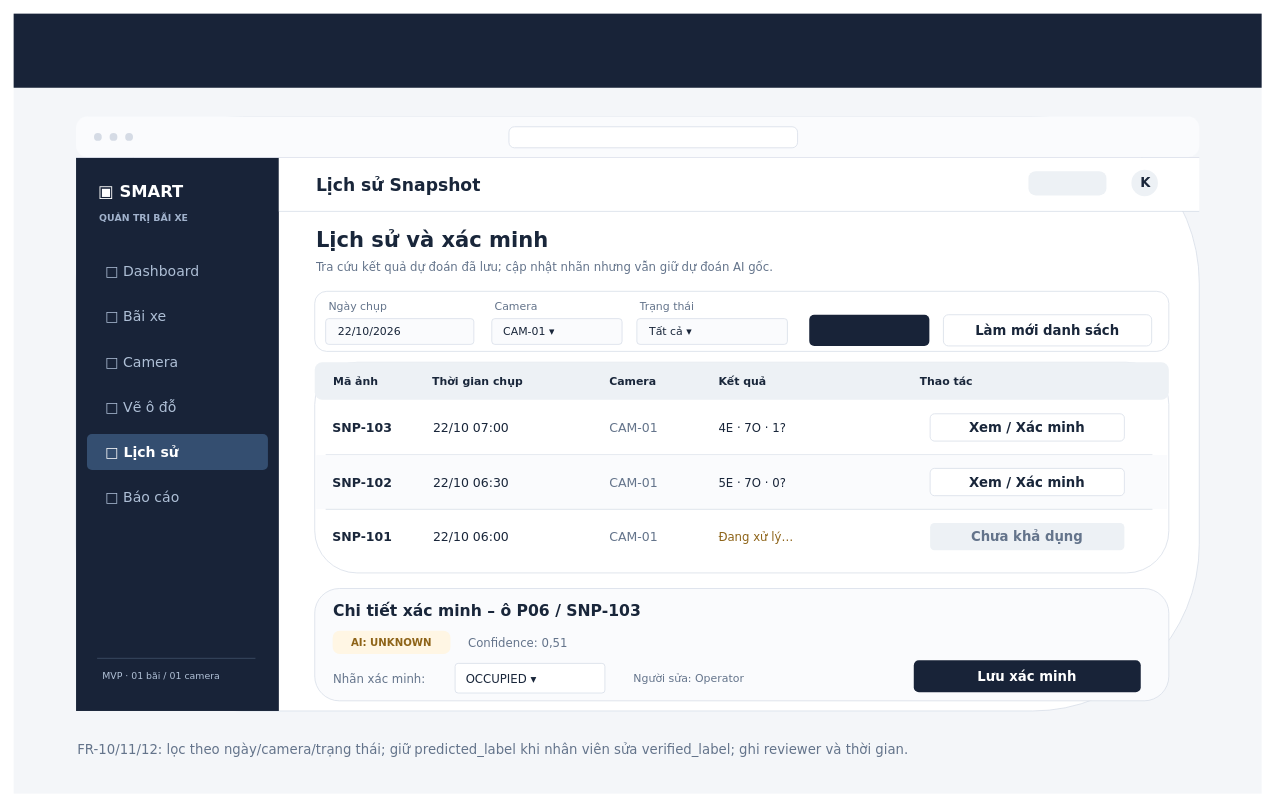
Some shapes in this 1275 by 807 pixel diagram are drawn without their labels. Each missing label, with the centre of its shape:
ai-smart-parking.local / history: pixel 653 137
Lọc kết quả: pixel 869 330
OPERATOR: pixel 1067 183
